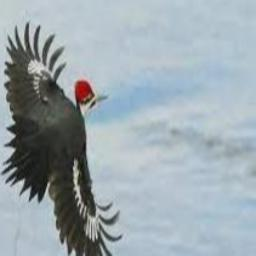Woodpecker: (1, 19, 124, 256)
